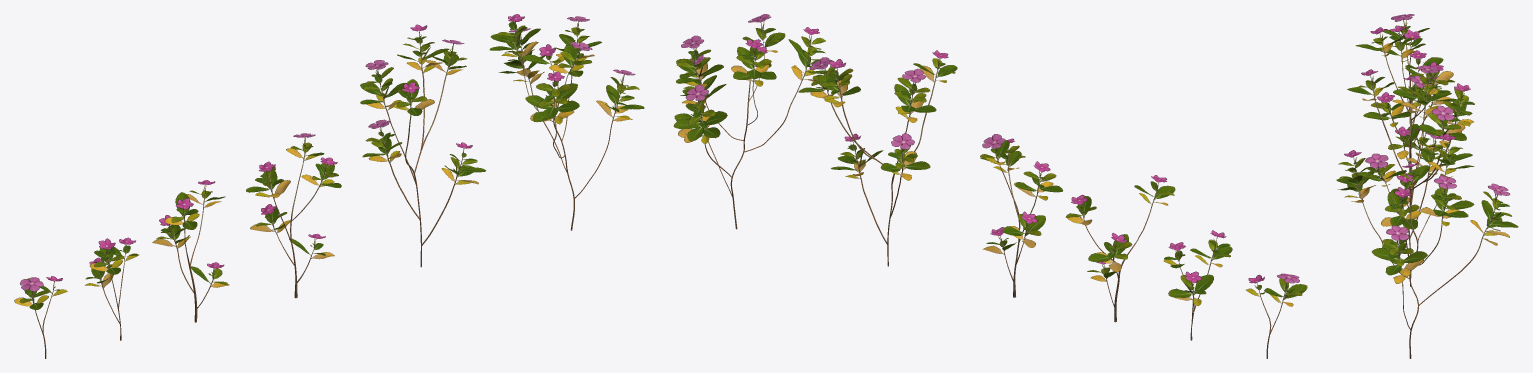
3 renders of one model, left to right at view 1: azimuth 30°, elevation 25°; view 2: azimuth 150°, elevation 25°; view 3: azimuth 270°, elevation 25°, orthographic. The views are drawn at different scales.
Parts seen in each view (by area): view 1: periwinkle_plant_01_LOD0, periwinkle_plant_02_LOD0, periwinkle_plant_03_LOD0, periwinkle_plant_04_LOD0, periwinkle_plant_05_LOD0, periwinkle_plant_06_LOD0; view 2: periwinkle_plant_01_LOD0, periwinkle_plant_02_LOD0, periwinkle_plant_03_LOD0, periwinkle_plant_04_LOD0, periwinkle_plant_05_LOD0, periwinkle_plant_06_LOD0; view 3: periwinkle_plant_01_LOD0, periwinkle_plant_02_LOD0, periwinkle_plant_03_LOD0, periwinkle_plant_04_LOD0, periwinkle_plant_05_LOD0, periwinkle_plant_06_LOD0.
Part boxes in pixels (x1,y1,x2,y2): periwinkle_plant_01_LOD0: (489,14,644,230); periwinkle_plant_02_LOD0: (360,24,485,267); periwinkle_plant_03_LOD0: (246,133,341,298); periwinkle_plant_04_LOD0: (152,180,229,322); periwinkle_plant_05_LOD0: (85,237,138,340); periwinkle_plant_06_LOD0: (14,276,67,358); periwinkle_plant_01_LOD0: (673,14,833,229); periwinkle_plant_02_LOD0: (798,50,957,266); periwinkle_plant_03_LOD0: (980,134,1062,297); periwinkle_plant_04_LOD0: (1066,175,1175,322); periwinkle_plant_05_LOD0: (1163,230,1232,340); periwinkle_plant_06_LOD0: (1246,273,1307,358); periwinkle_plant_01_LOD0: (1336,133,1518,358); periwinkle_plant_02_LOD0: (1347,65,1474,286); periwinkle_plant_03_LOD0: (1363,75,1440,207); periwinkle_plant_04_LOD0: (1355,27,1455,171); periwinkle_plant_05_LOD0: (1377,25,1454,123); periwinkle_plant_06_LOD0: (1383,14,1429,103).
Bounding box in the file's own units: 1.24 × 0.4107 × 0.3207.
1 material, 1 textured.
